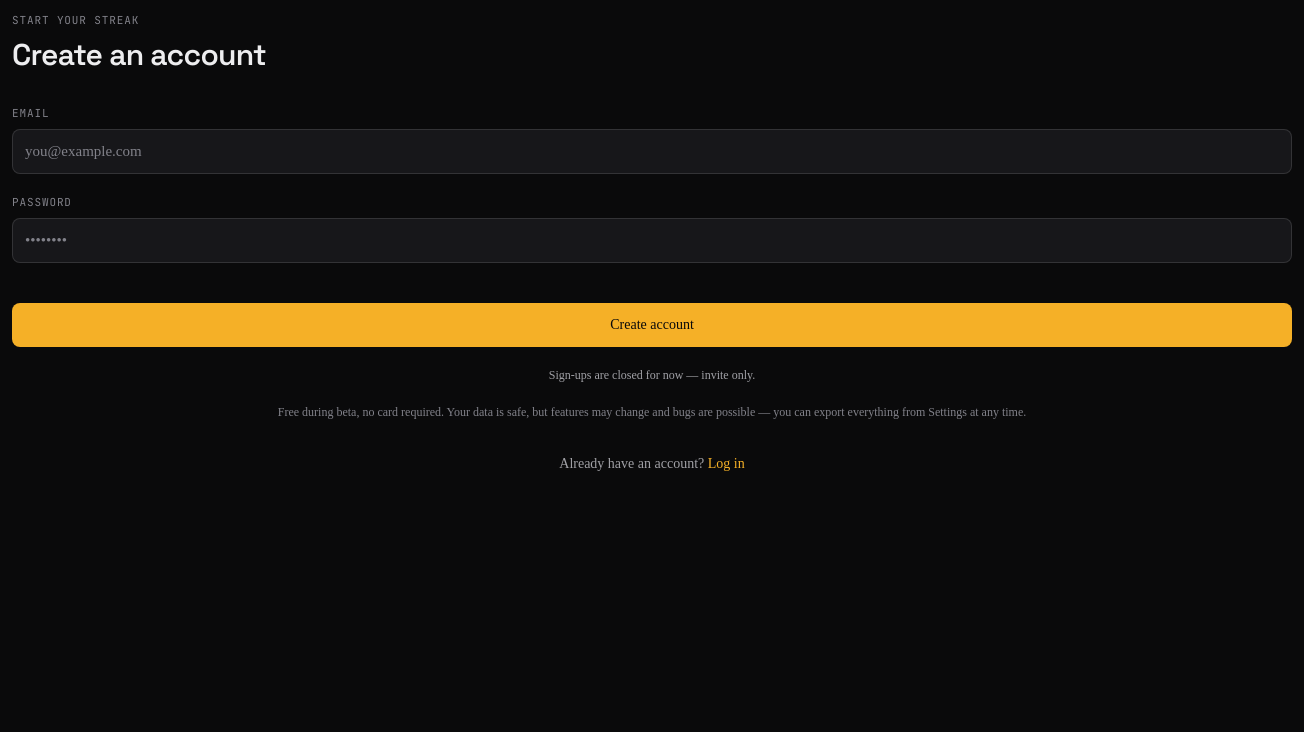
it: SignupPage › maps actionable error codes to Nitor's own copy, never the raw message
Step 1. Type "sam@example.com" into the field labelled "Email" → (652, 151), box x1=12 y1=129 x2=1292 y2=174
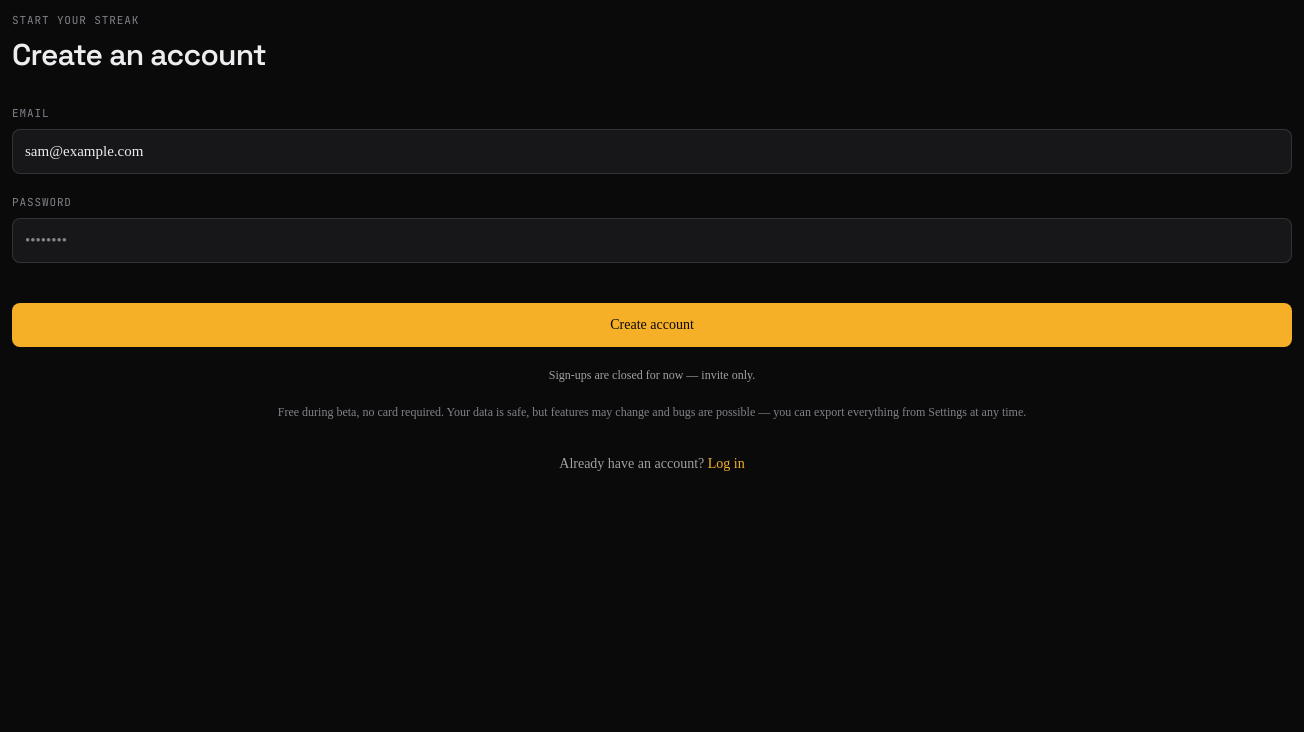
Step 2. Type "longenough-pw" into the password field labelled "Password" → (652, 240), box x1=12 y1=218 x2=1292 y2=262
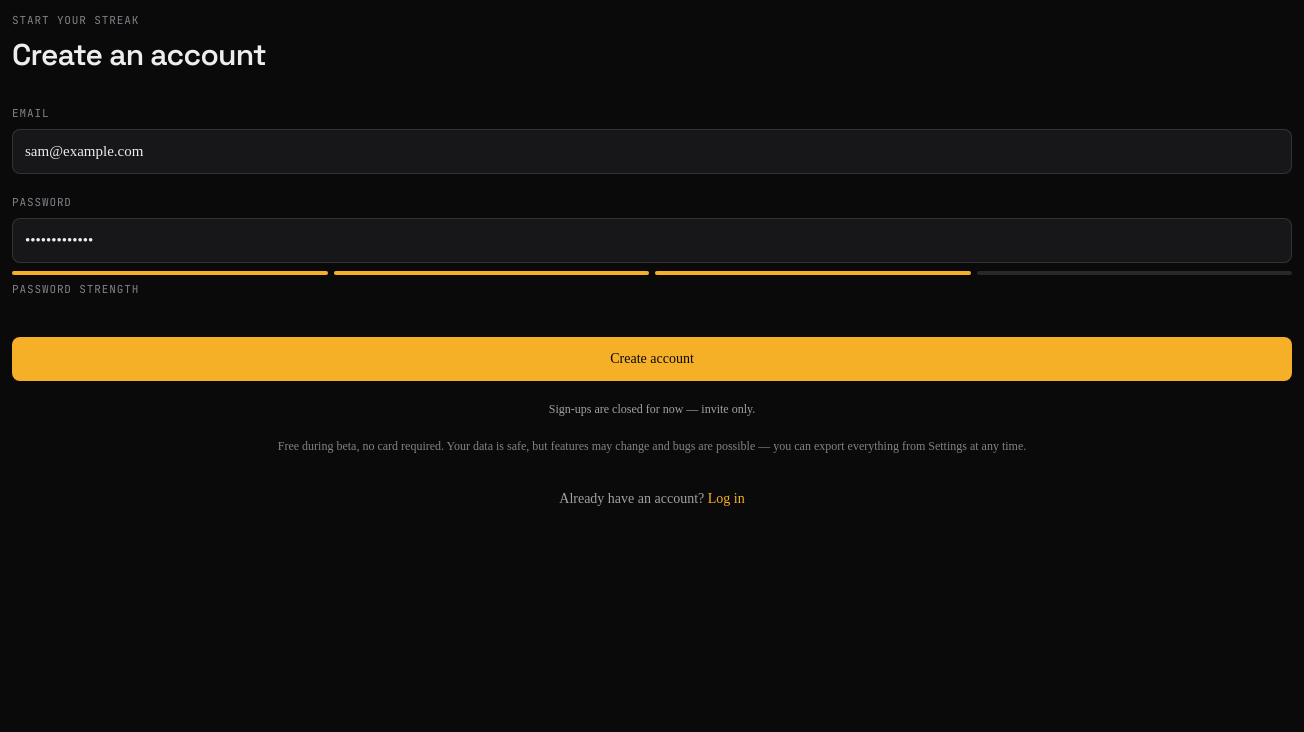
Step 3. Click the button "Create account" → (652, 359), box x1=12 y1=337 x2=1292 y2=381
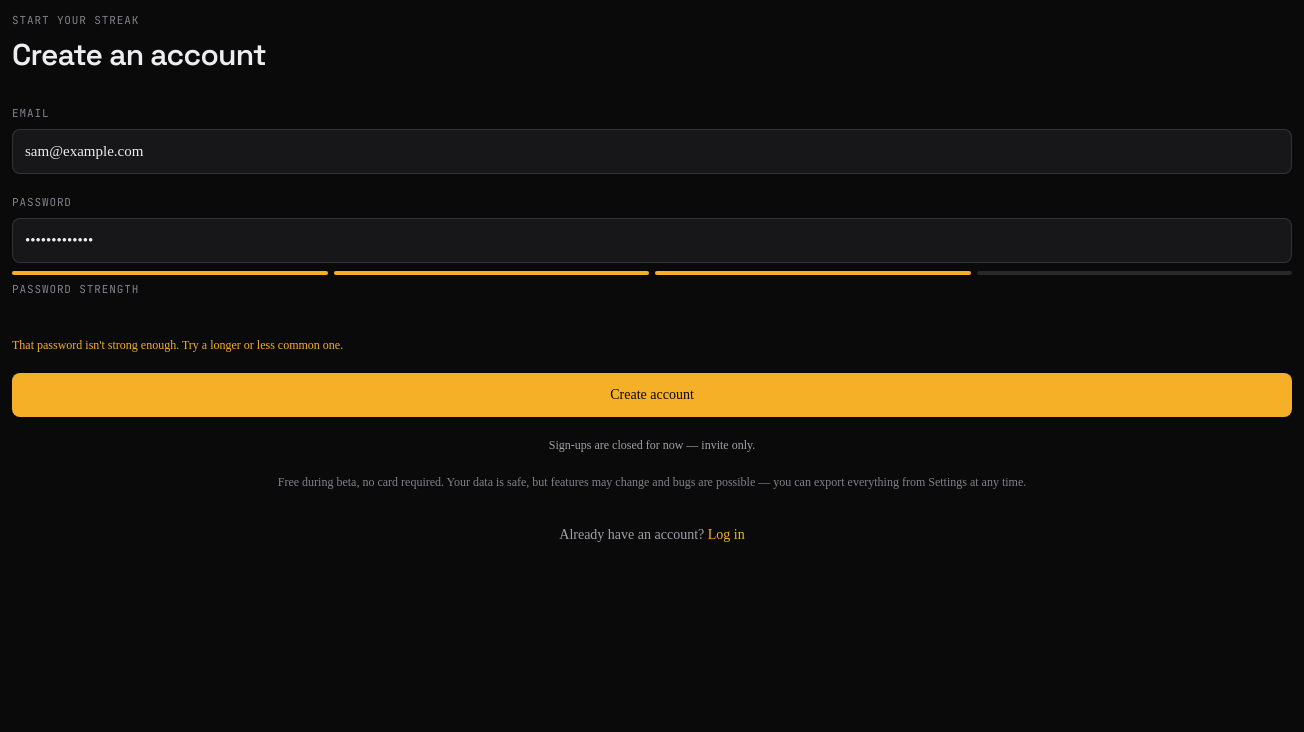
Expected: the text "That password isn't strong enough. Try a longer or less common one." is shown, x1=12 y1=338 x2=343 y2=352
